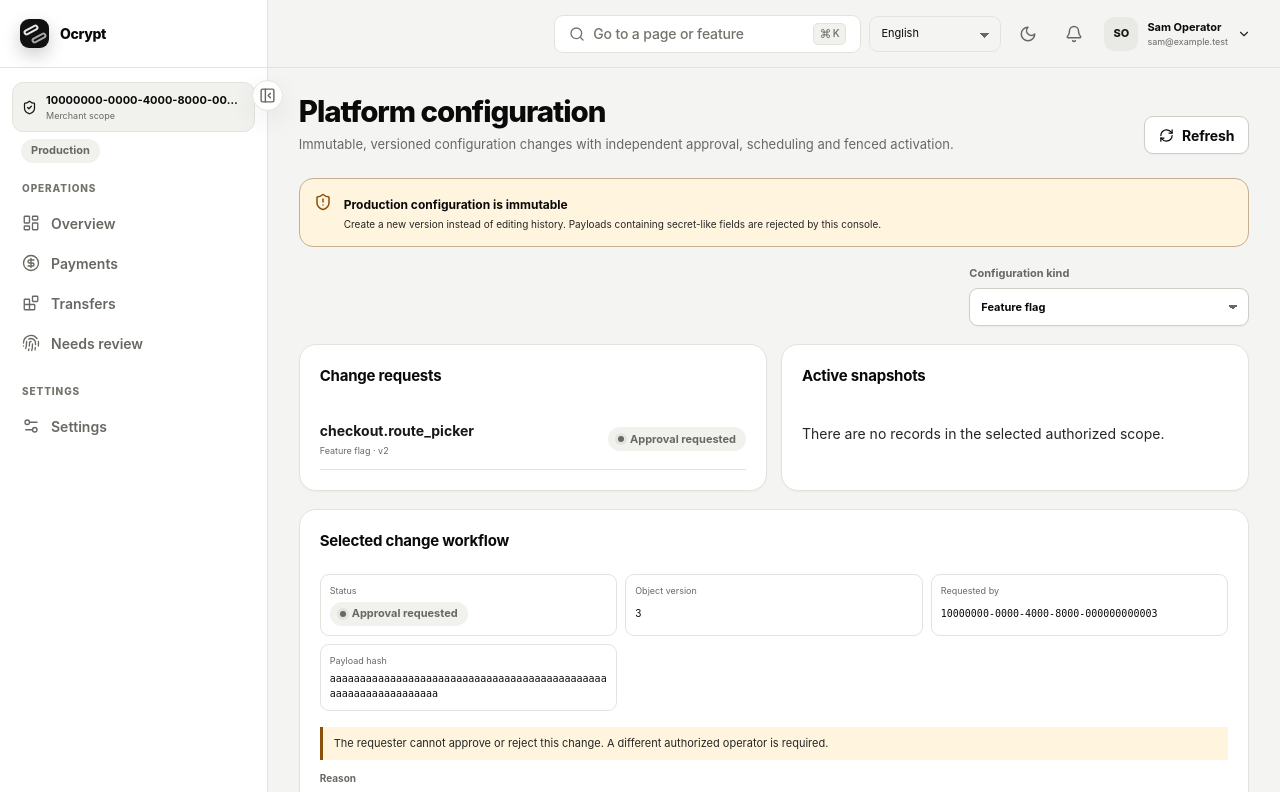
Test case: admin application › enforces four-eyes separation on platform approvals
Check: the heading "Platform configuration" is shown, box [299,93,605,129]
Check: the text "checkout.route_picker" is shown, box [320,420,474,442]
Select "Русский" in the dropdown named "Language". click: (935, 34)
box: [869,16,1001,52]
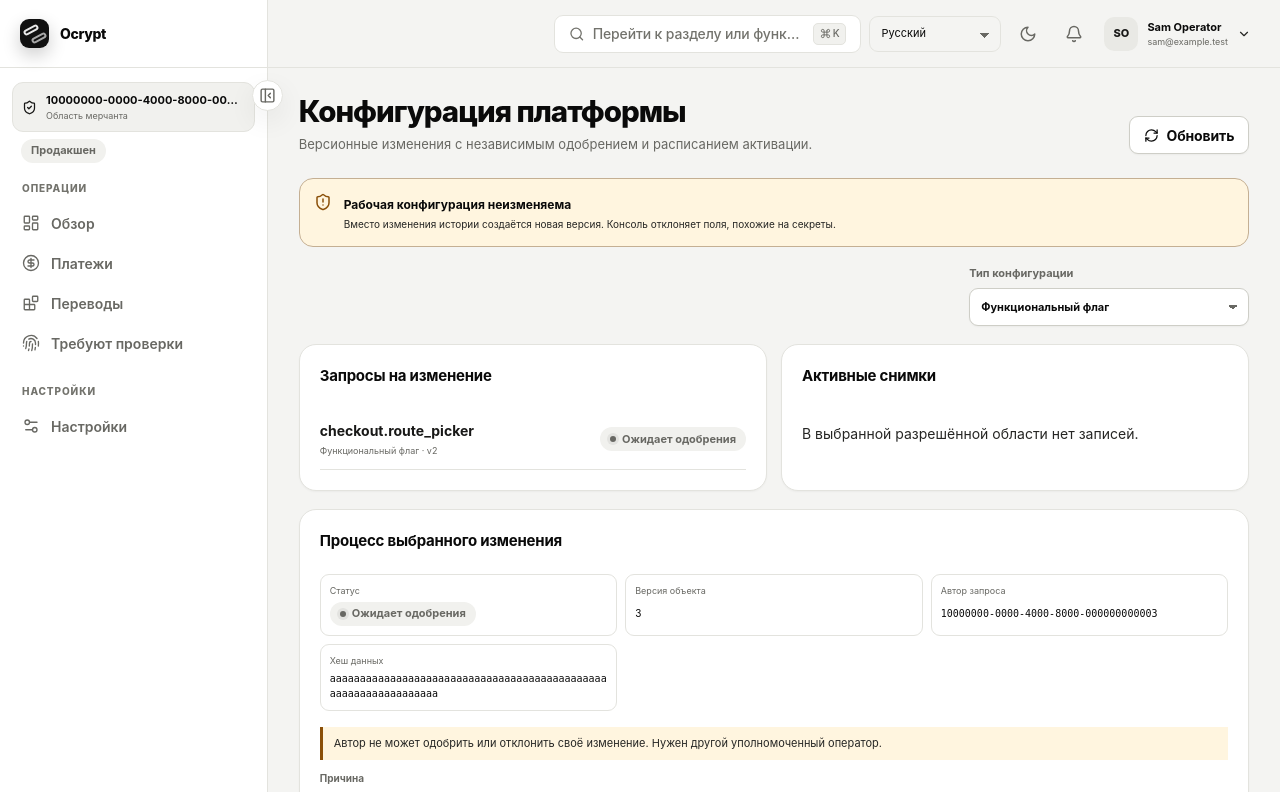
Check: the text "Ожидает одобрения" is shown, box [600,427,746,451]
